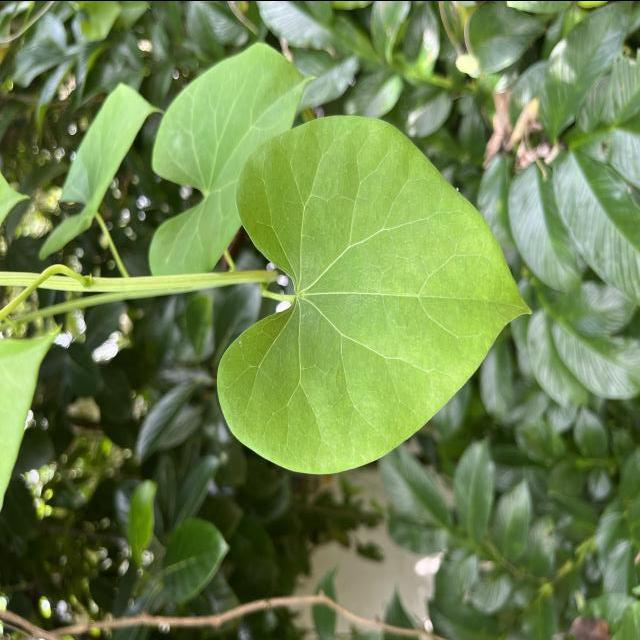Tinospora cordifolia: (211, 109, 538, 479)
